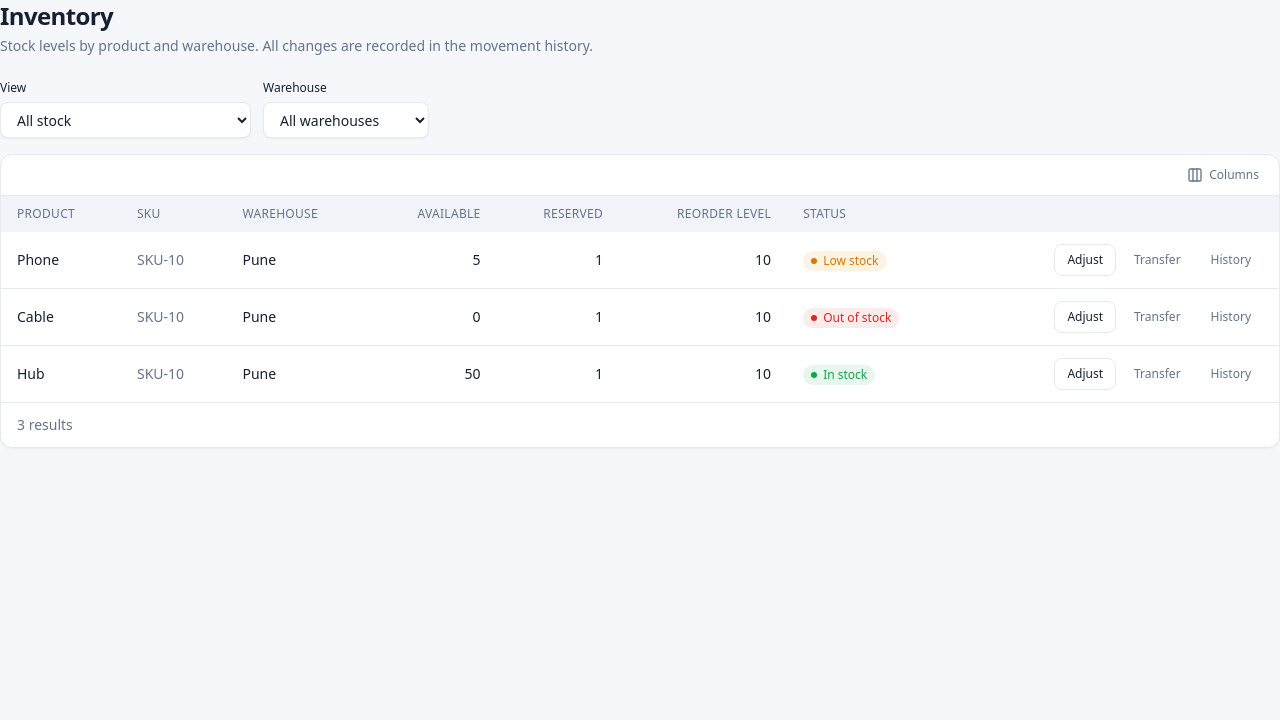
Test case: AdminInventoryPage › refuses to remove more stock than is available (server re-checks under lock)
Click the button with aria-label "Adjust Phone in Pune" at (1085, 260), box [1054,244,1116,276]
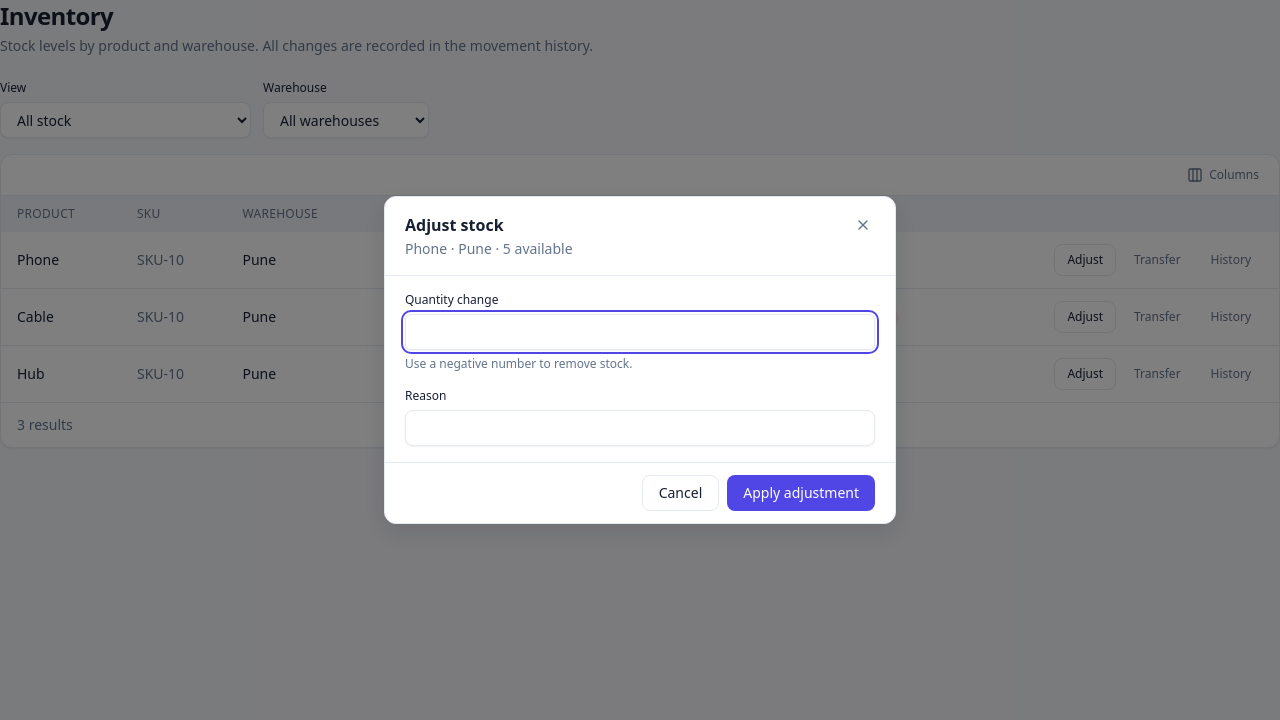
Type "-10" into the field labelled "Quantity change" at (640, 332), box [405,314,875,350]
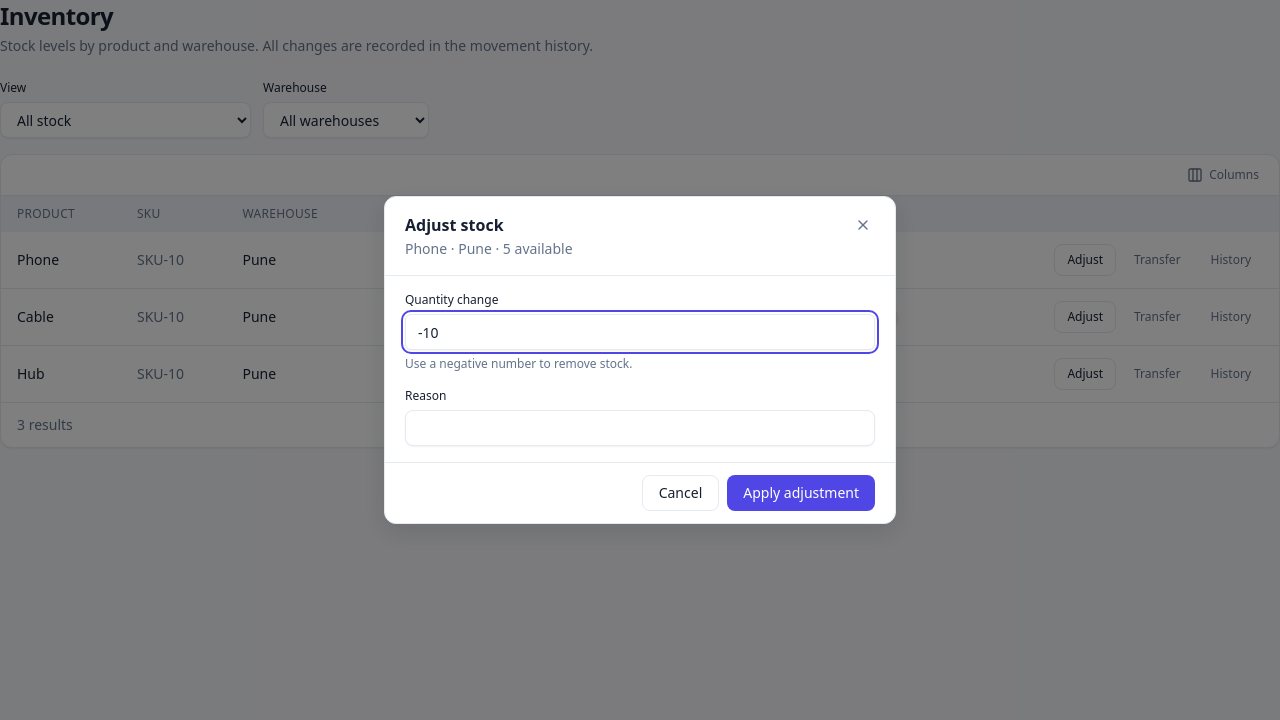
Type "Damaged" into the field labelled "Reason" at (640, 428), box [405,410,875,446]
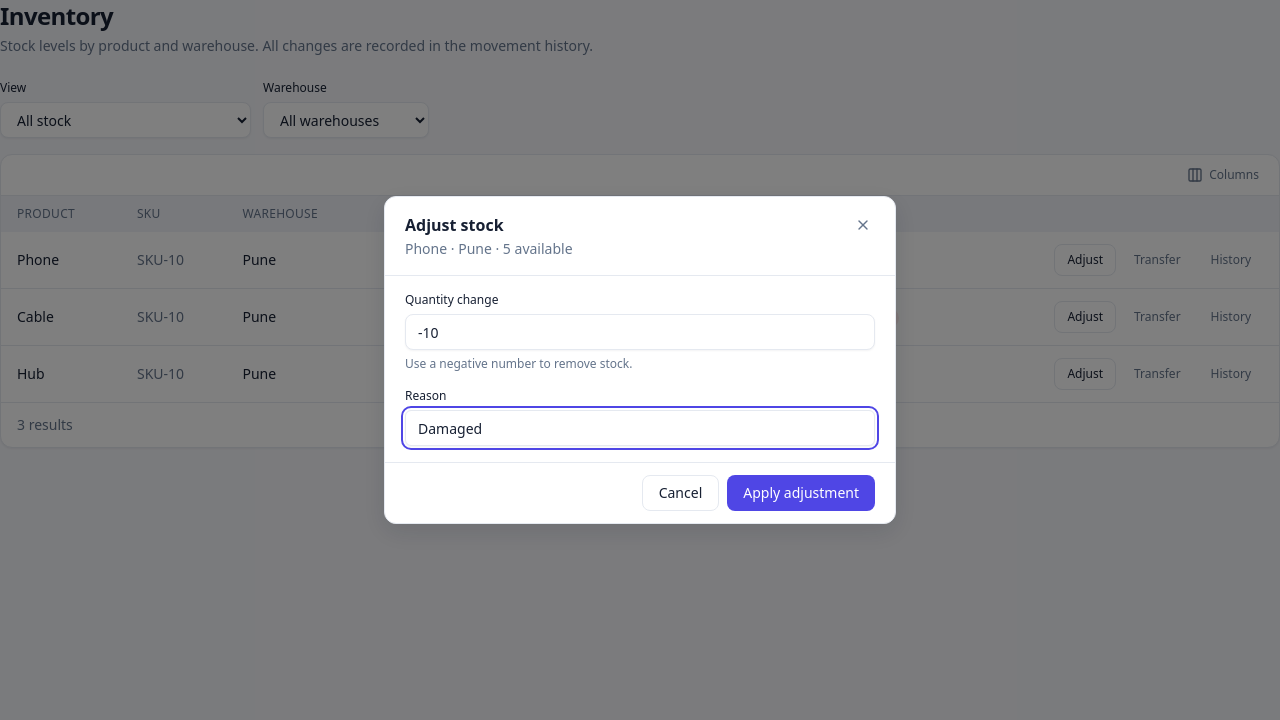
Click the button "Apply adjustment" at (801, 493), box [727,475,875,511]
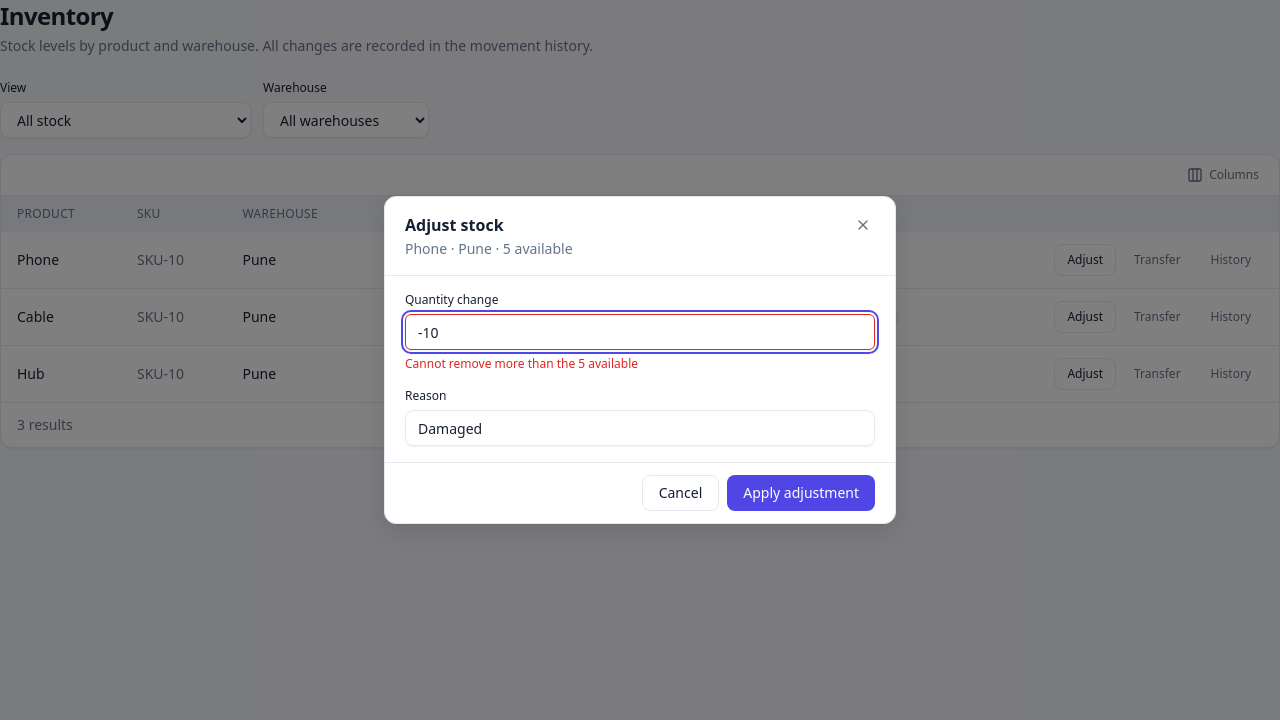
Check: the text "Cannot remove more than the 5 available" is shown, box [405,355,638,372]
